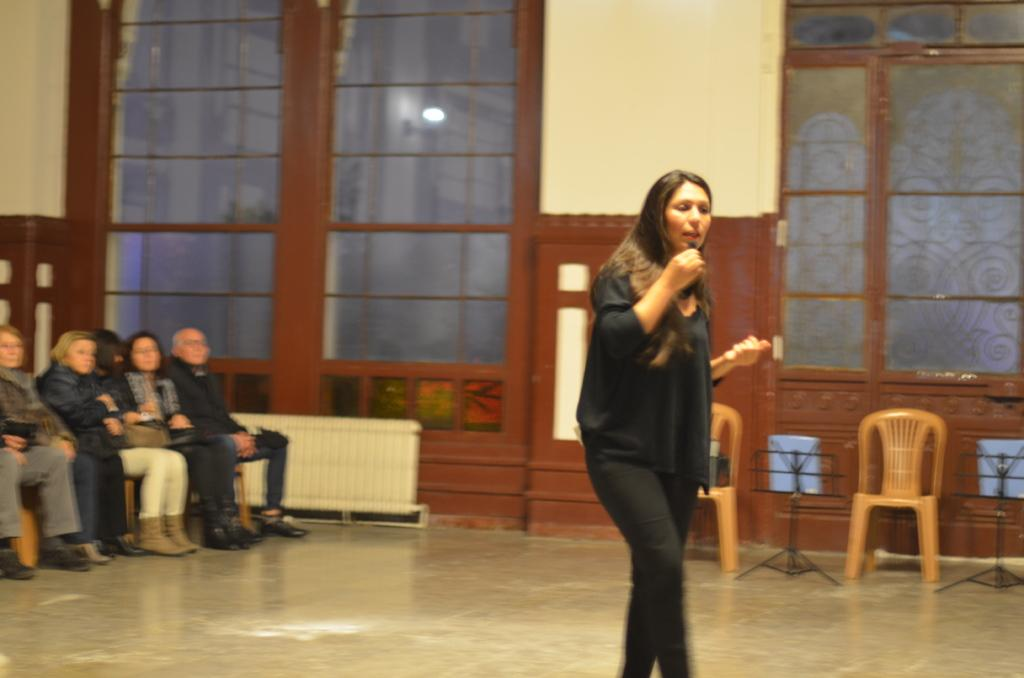Chair: (844, 407, 947, 582), (689, 401, 743, 572)
